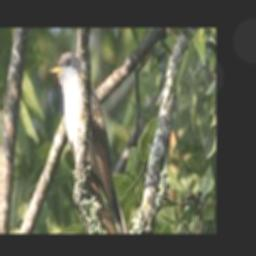Cuckoo: (48, 52, 128, 233)
